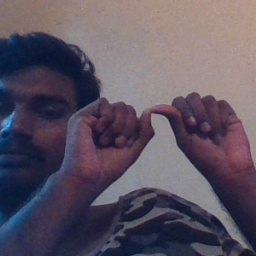A: (79, 91, 246, 178)
